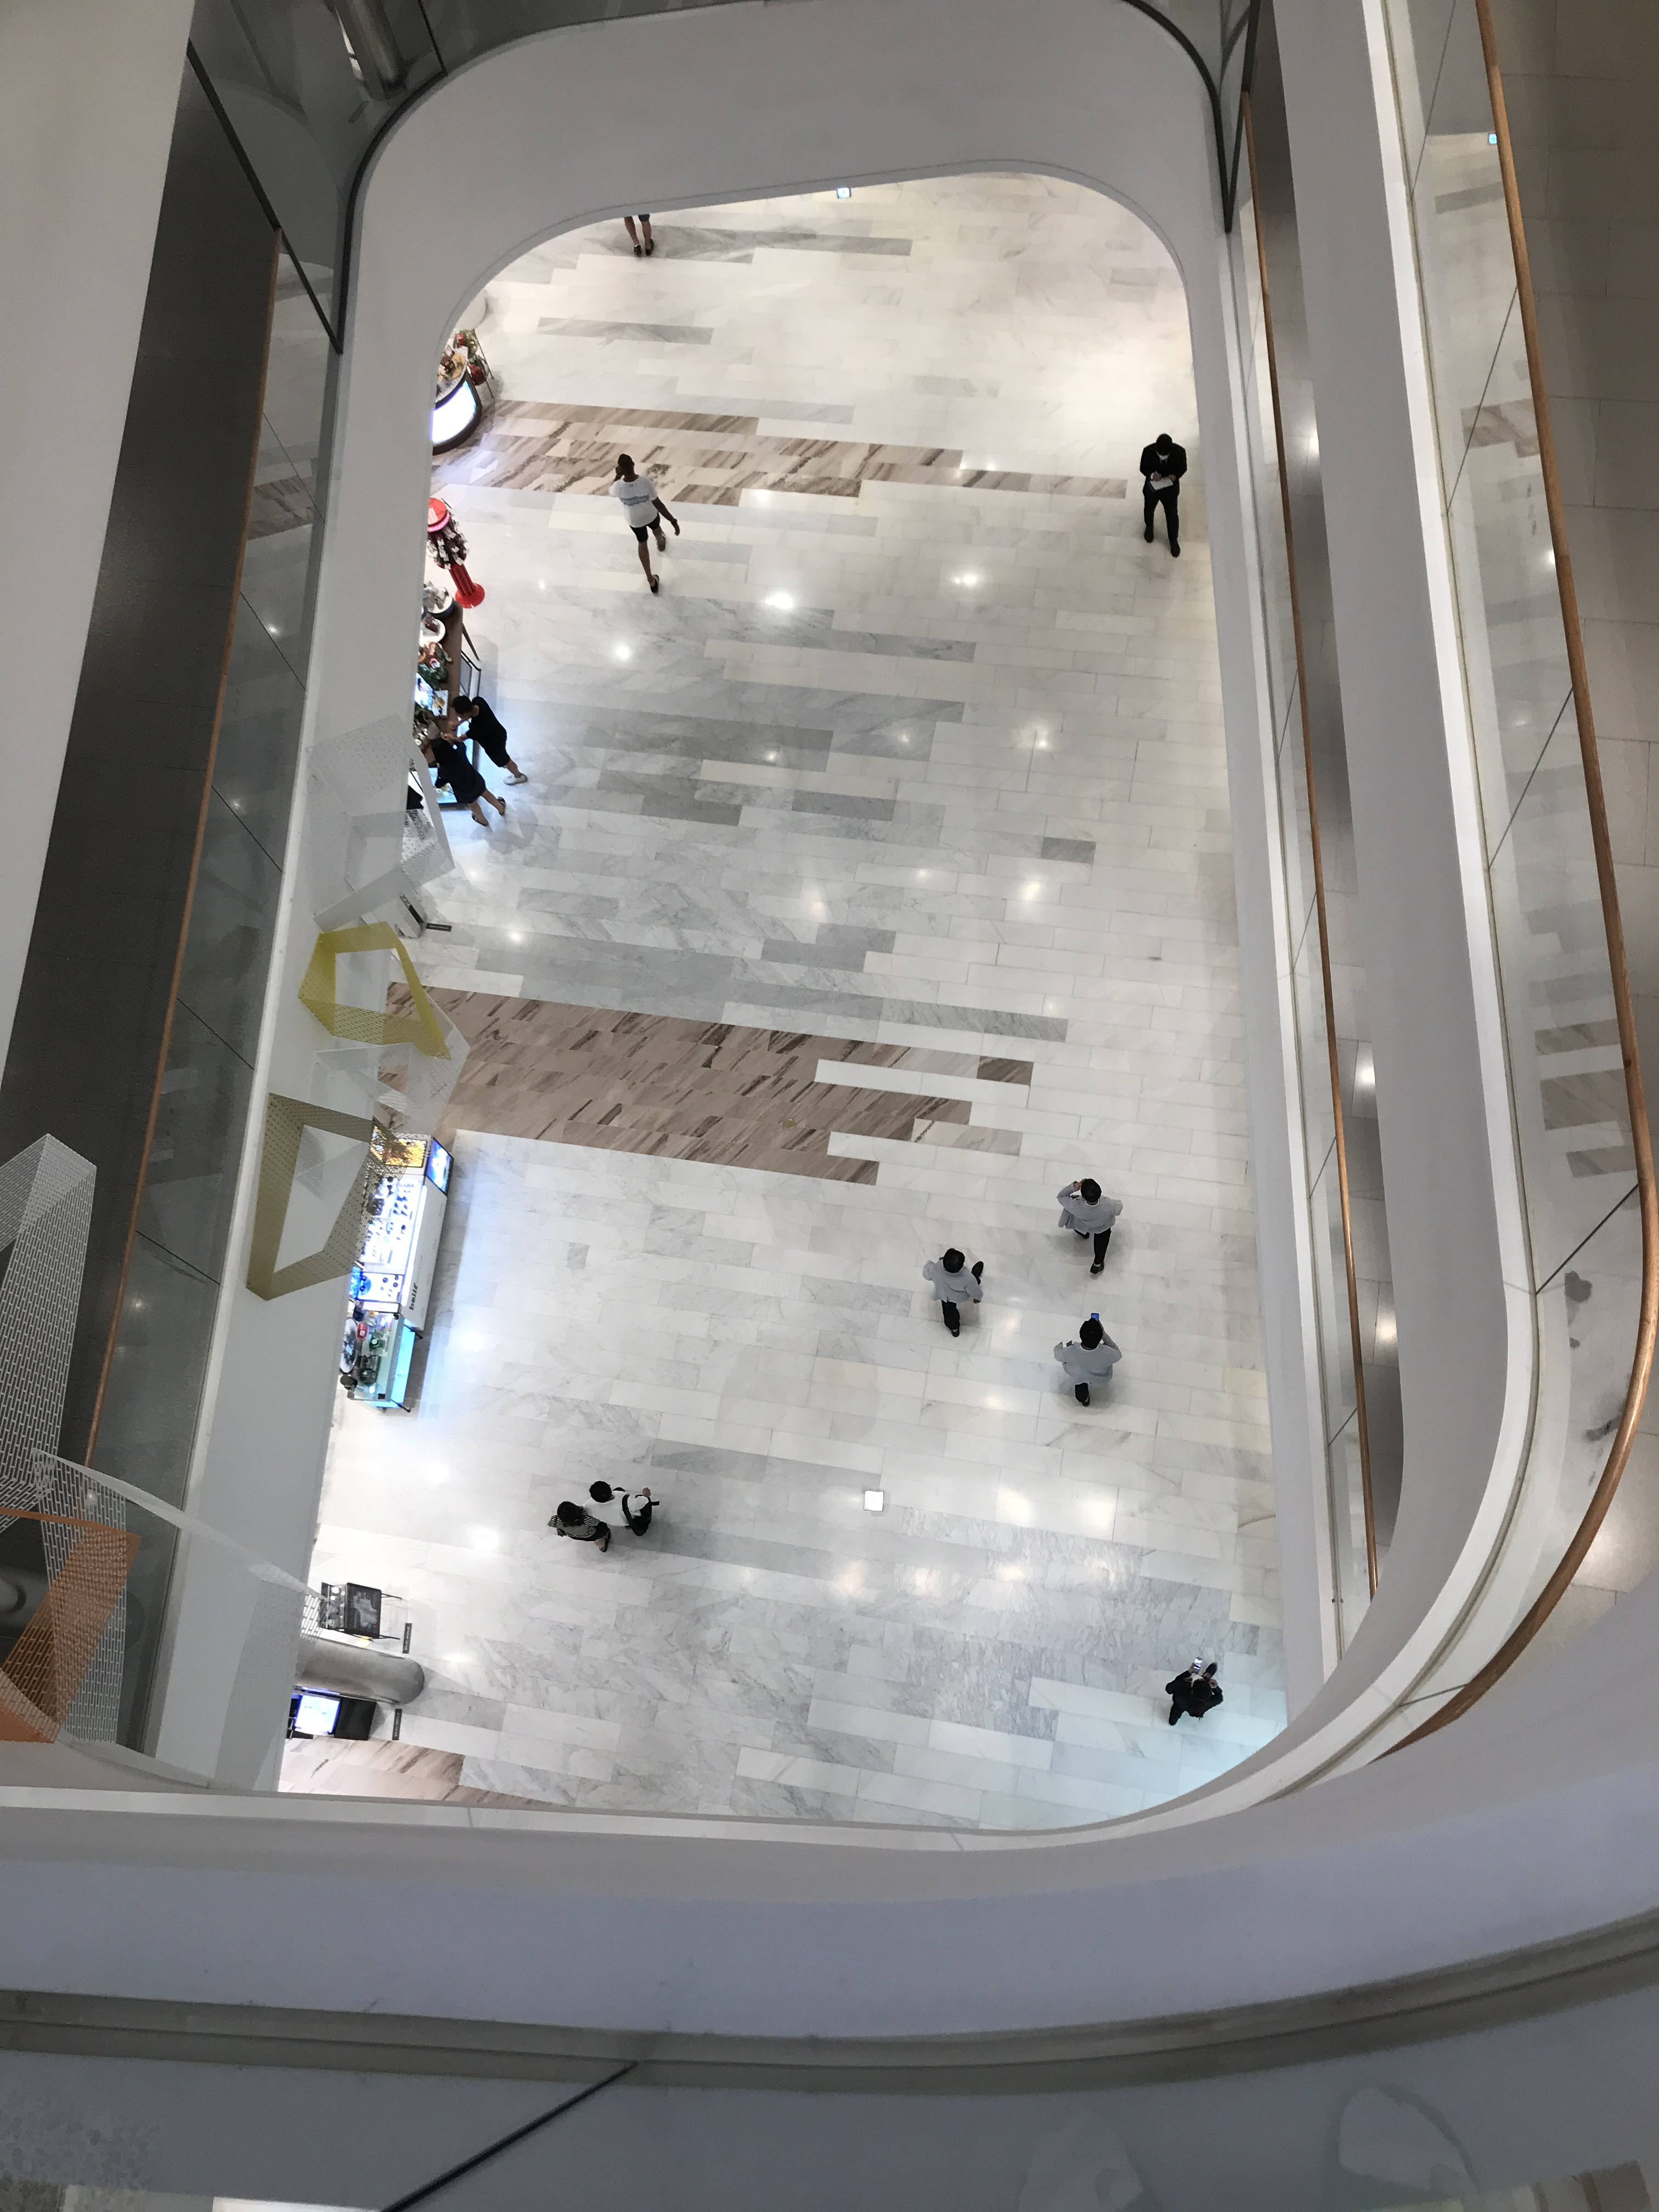person: (611, 452, 678, 591), (430, 740, 510, 829), (448, 693, 528, 782), (1057, 1176, 1122, 1279), (1054, 1316, 1124, 1403), (1141, 433, 1187, 558), (923, 1248, 983, 1340), (1167, 1658, 1222, 1729), (589, 1477, 659, 1531), (548, 1502, 615, 1553)
